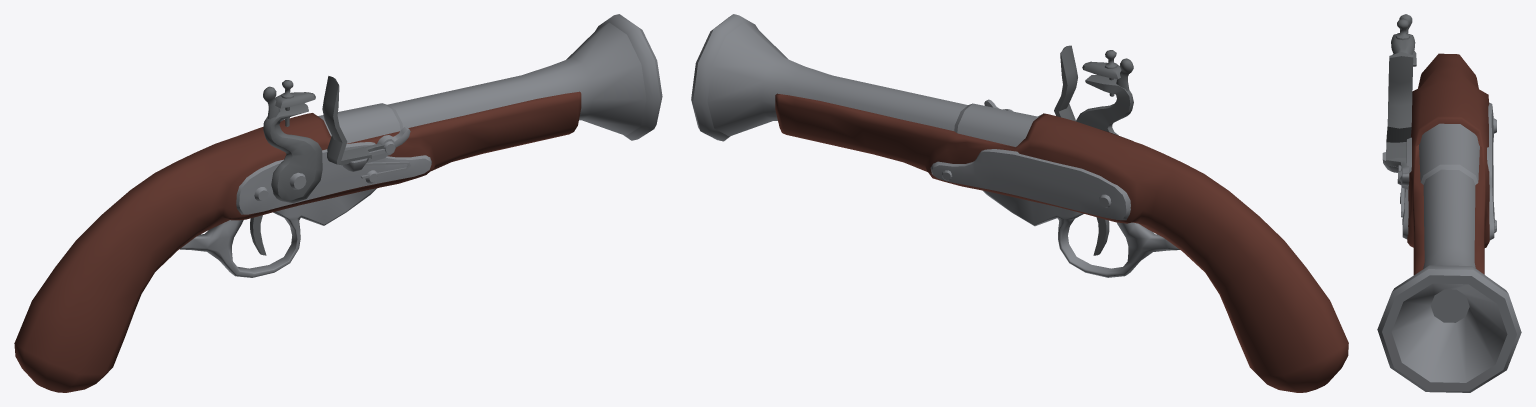
Rendered from pistol.fbx.
3 views of the same model, side by side, from view 1: azimuth 30°, elevation 25°; view 2: azimuth 150°, elevation 25°; view 3: azimuth 270°, elevation 25° (orthographic). The views are drawn at different scales.
Parts seen in each view (by area): view 1: flintlock_gun, flint, frizzen; view 2: flintlock_gun, flint, frizzen; view 3: flintlock_gun, frizzen, flint.
Part boxes in pixels (left/top/right/bottom): flintlock_gun: left=14, top=14, right=662, bottom=392; flint: left=263, top=80, right=322, bottom=203; frizzen: left=322, top=76, right=384, bottom=165; flintlock_gun: left=691, top=14, right=1348, bottom=392; flint: left=1076, top=50, right=1133, bottom=135; frizzen: left=1038, top=45, right=1077, bottom=121; flintlock_gun: left=1377, top=53, right=1521, bottom=392; frizzen: left=1386, top=52, right=1413, bottom=170; flint: left=1391, top=14, right=1416, bottom=66.
Bounding box in the file's own units: 78.2 × 33.05 × 14.05.
